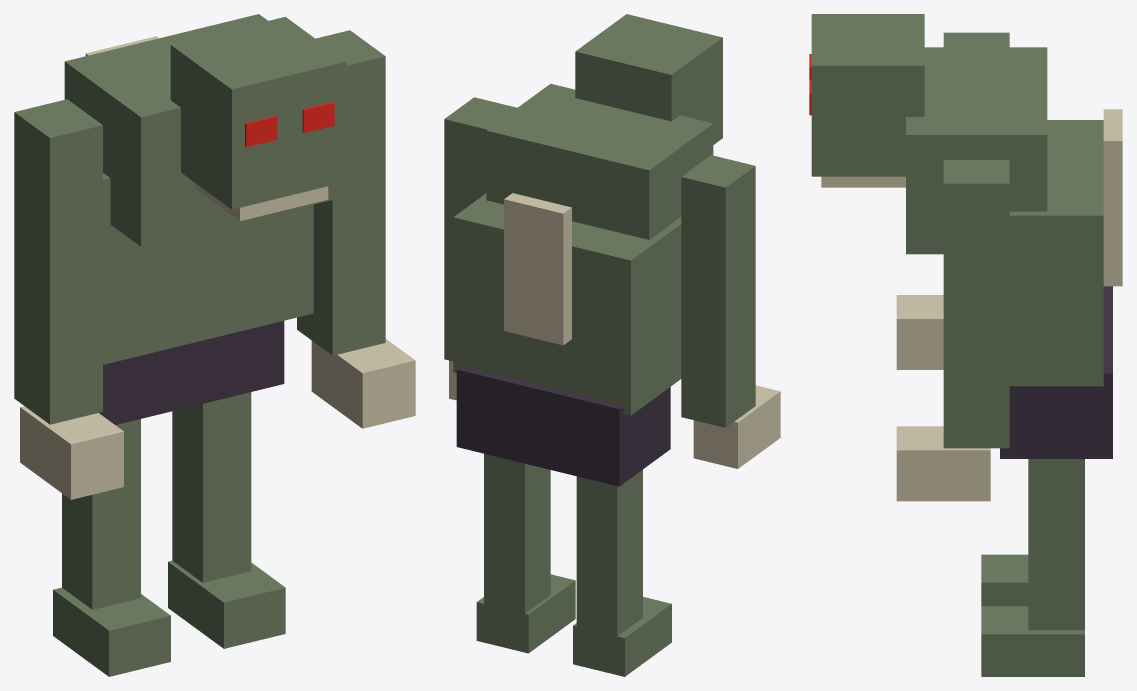
The model's file is ghoul_placeholder.glb.
3 renders of one model, left to right at view 1: azimuth 30°, elevation 25°; view 2: azimuth 150°, elevation 25°; view 3: azimuth 270°, elevation 25°, orthographic. The views are drawn at different scales.
Visible parts, largest first — view 1: ghoul_placeholder; view 2: ghoul_placeholder; view 3: ghoul_placeholder.
Part boxes in pixels (bbox=[...]): ghoul_placeholder: bbox=[14, 14, 415, 676]; ghoul_placeholder: bbox=[444, 14, 780, 676]; ghoul_placeholder: bbox=[809, 14, 1122, 676].
Bounding box in the file's own units: 0.78 × 1.4 × 0.665.
Materials: 1 (1 with a texture image).
